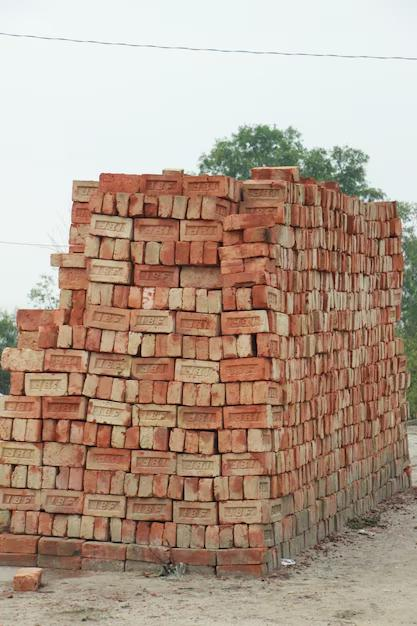Bricks: (86, 399, 132, 428), (221, 356, 270, 382), (218, 500, 270, 524), (223, 453, 276, 476), (86, 352, 133, 377), (83, 307, 131, 331), (85, 447, 131, 472), (42, 441, 86, 467), (172, 360, 219, 384), (125, 498, 171, 522), (132, 219, 179, 242), (131, 451, 176, 475), (222, 406, 271, 428), (0, 441, 43, 466), (83, 494, 126, 519), (173, 501, 217, 525), (134, 264, 179, 287), (90, 214, 133, 238), (25, 373, 68, 397), (40, 490, 83, 514), (44, 348, 88, 371), (132, 405, 178, 427), (177, 407, 223, 429), (238, 201, 284, 223), (179, 221, 224, 243), (41, 398, 86, 420), (177, 454, 222, 476), (216, 547, 271, 565), (87, 260, 130, 283), (176, 312, 218, 335), (180, 267, 222, 290), (0, 488, 41, 511), (3, 349, 45, 371), (182, 176, 226, 197), (242, 182, 288, 202), (0, 396, 43, 417), (37, 538, 84, 557), (132, 359, 174, 380), (219, 242, 268, 260), (81, 542, 127, 561), (131, 312, 174, 332), (220, 314, 267, 332), (17, 310, 63, 328), (224, 214, 274, 230), (143, 176, 183, 196), (170, 549, 217, 566), (125, 545, 169, 563), (222, 272, 270, 288), (101, 175, 145, 192), (0, 535, 39, 554), (253, 381, 283, 404), (202, 197, 232, 220), (216, 563, 268, 576), (80, 558, 125, 573), (72, 180, 100, 204), (251, 167, 299, 181), (252, 287, 281, 310), (37, 555, 81, 570), (245, 476, 271, 500), (14, 568, 42, 590), (59, 269, 88, 290), (249, 524, 274, 547), (125, 561, 165, 575), (255, 334, 280, 356), (247, 429, 271, 451), (49, 254, 86, 268), (68, 222, 91, 244), (169, 565, 214, 576), (0, 554, 37, 566), (243, 258, 274, 272), (84, 232, 100, 259), (243, 226, 268, 243), (160, 240, 176, 266), (85, 328, 103, 351), (236, 335, 254, 358), (95, 376, 112, 400), (167, 381, 184, 405), (95, 425, 112, 449), (72, 203, 92, 223), (18, 330, 39, 349), (63, 308, 86, 325), (171, 197, 188, 220), (12, 419, 29, 442), (9, 511, 26, 534), (134, 522, 151, 545), (152, 381, 168, 405), (198, 431, 214, 455), (37, 513, 53, 537), (39, 328, 58, 348), (99, 238, 117, 259), (113, 240, 131, 261), (67, 373, 85, 394), (125, 473, 140, 498), (138, 381, 155, 403), (81, 423, 98, 445), (113, 285, 129, 308), (175, 242, 191, 265), (144, 243, 160, 266), (127, 196, 143, 219), (236, 286, 252, 309), (111, 426, 127, 449), (68, 468, 84, 491), (95, 472, 111, 495), (138, 475, 154, 498), (198, 479, 214, 502), (52, 514, 68, 537), (66, 516, 82, 539), (93, 518, 109, 541), (268, 499, 284, 522), (82, 376, 100, 396), (184, 430, 199, 454), (42, 466, 57, 490), (169, 476, 184, 500), (81, 516, 96, 540), (162, 523, 177, 547), (176, 524, 191, 548), (190, 525, 205, 549), (157, 196, 174, 217), (194, 384, 211, 405), (153, 288, 170, 309), (225, 383, 241, 405), (182, 289, 198, 311), (68, 422, 84, 444), (152, 428, 168, 450), (11, 466, 27, 488), (230, 476, 244, 501), (187, 196, 202, 219), (115, 193, 130, 216), (9, 373, 24, 396), (167, 334, 182, 357), (182, 383, 197, 406), (221, 259, 244, 274), (184, 478, 199, 501), (122, 520, 137, 543), (205, 526, 220, 549), (234, 524, 249, 547), (87, 282, 101, 306), (110, 377, 124, 401), (217, 429, 231, 453), (220, 525, 234, 549), (130, 242, 145, 264), (203, 243, 218, 265), (222, 336, 237, 358), (211, 384, 226, 406), (207, 291, 222, 313), (139, 427, 154, 449), (170, 429, 185, 451), (232, 430, 247, 452), (101, 285, 115, 308), (142, 334, 156, 357), (125, 379, 139, 402), (150, 522, 164, 545), (100, 331, 116, 351), (42, 421, 58, 441), (101, 195, 116, 216), (210, 337, 223, 361), (26, 511, 39, 535), (109, 519, 122, 543), (114, 332, 128, 354), (182, 336, 196, 358), (239, 383, 253, 405), (222, 288, 236, 310), (26, 419, 40, 441), (56, 420, 70, 442), (28, 467, 42, 489), (154, 475, 168, 497), (214, 478, 228, 500), (88, 193, 103, 213), (85, 469, 97, 494), (170, 288, 183, 311), (111, 472, 124, 495), (57, 326, 71, 347), (196, 289, 208, 313), (72, 326, 85, 348), (129, 333, 142, 355), (196, 338, 209, 360), (0, 418, 13, 440), (59, 290, 73, 310), (144, 197, 158, 217), (141, 288, 155, 308), (56, 468, 70, 488), (0, 465, 12, 488), (125, 427, 138, 448), (72, 290, 86, 309), (191, 243, 203, 265), (156, 334, 168, 356), (129, 286, 141, 308), (224, 232, 242, 246), (0, 511, 11, 533), (162, 169, 184, 177), (70, 244, 84, 253)
